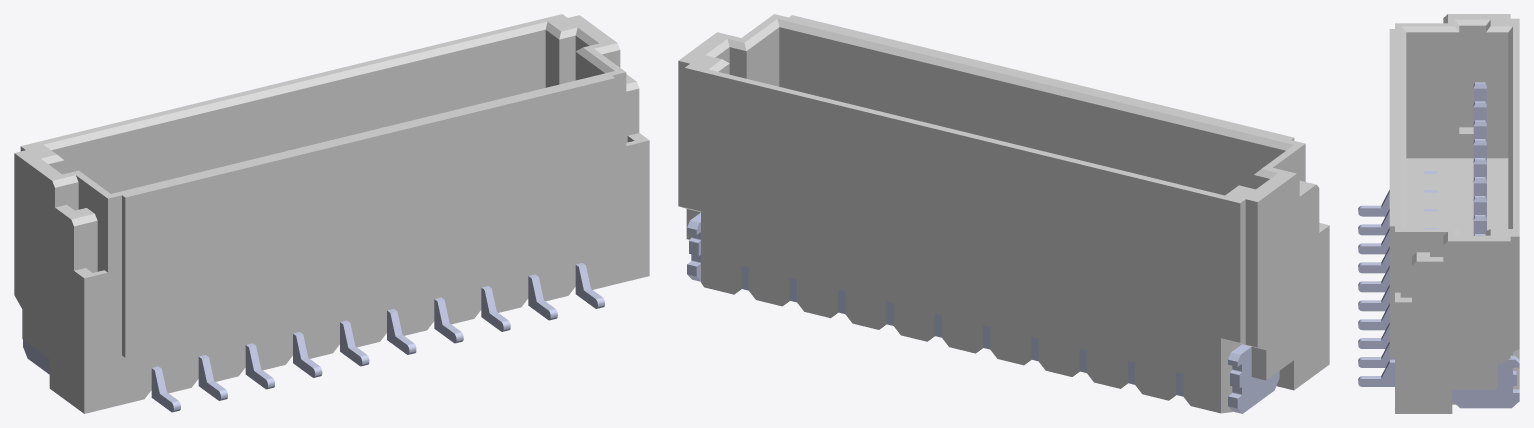
Rendered from BM10B-SRSS-TB-LF-126b120ce82a.glb.
The picture shows the model from 3 angles, left to right: view 1: azimuth 30°, elevation 25°; view 2: azimuth 150°, elevation 25°; view 3: azimuth 270°, elevation 25°; orthographic projection. The views are drawn at different scales.
Parts seen in each view (by area): view 1: material1, material0; view 2: material1, material0; view 3: material1, material0.
Boxes of the visible parts, x1,y1,x2,y2 form: material1: (14, 14, 649, 413); material0: (23, 93, 604, 412); material1: (678, 14, 1329, 413); material0: (687, 212, 1279, 413); material1: (1389, 14, 1519, 413); material0: (1358, 82, 1519, 408).
Size of the model in its own units: 12 by 4.25 by 3.6.
